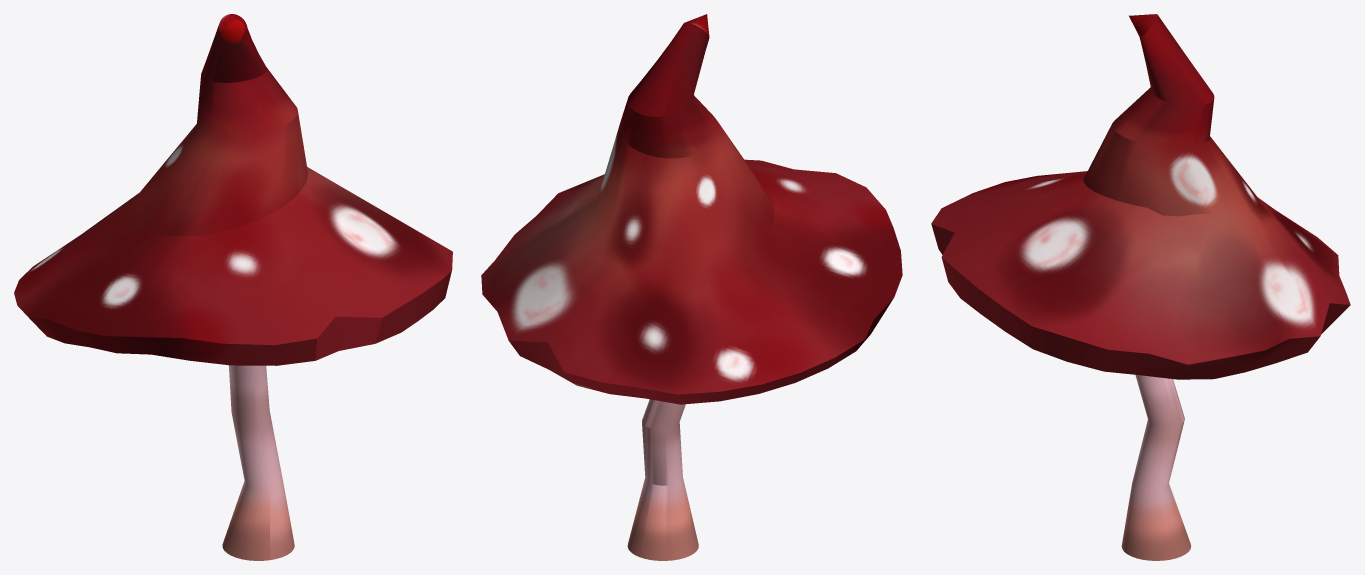
File: mushroom1.fbx
The picture shows the model from 3 angles, left to right: view 1: azimuth 30°, elevation 25°; view 2: azimuth 150°, elevation 25°; view 3: azimuth 270°, elevation 25°; orthographic projection. The views are drawn at different scales.
Parts seen in each view (by area): view 1: Cone; view 2: Cone; view 3: Cone.
Boxes of the visible parts, x1,y1,x2,y2 form: Cone: (14, 14, 452, 560); Cone: (481, 14, 902, 560); Cone: (931, 14, 1350, 560).
Size of the model in its own units: 527 by 728 by 536.
Materials: 1 (1 with a texture image).
